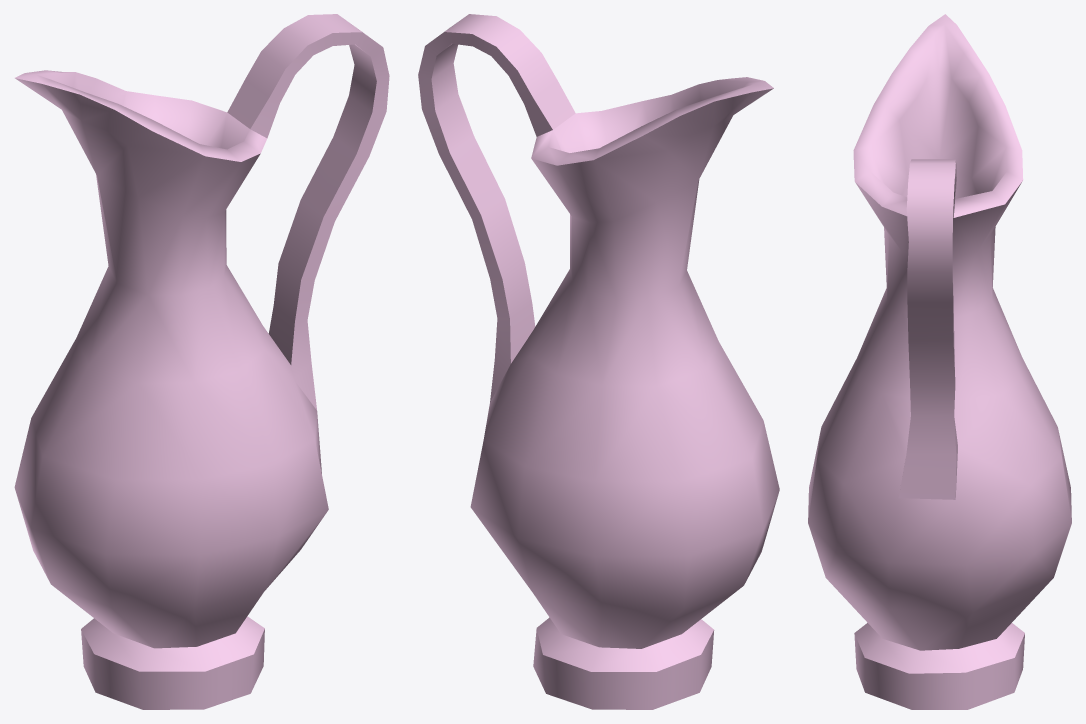
Rendered from SM_Jug.fbx.
The picture shows the model from 3 angles, left to right: view 1: azimuth 30°, elevation 25°; view 2: azimuth 150°, elevation 25°; view 3: azimuth 270°, elevation 25°; orthographic projection. The views are drawn at different scales.
Parts seen in each view (by area): view 1: SM_Jug; view 2: SM_Jug; view 3: SM_Jug.
Boxes of the visible parts, x1,y1,x2,y2 form: SM_Jug: (14, 14, 389, 709); SM_Jug: (418, 14, 779, 709); SM_Jug: (808, 14, 1071, 709).
Bounding box in the file's own units: 0.3157 × 0.5356 × 0.217.
